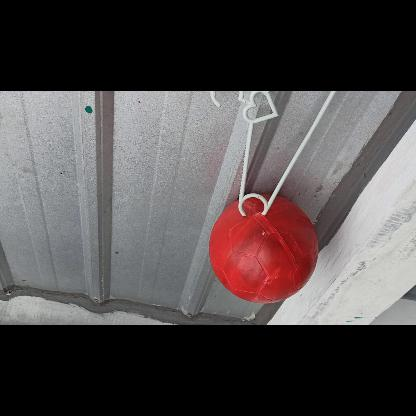red_ball: (207, 195, 316, 304)
